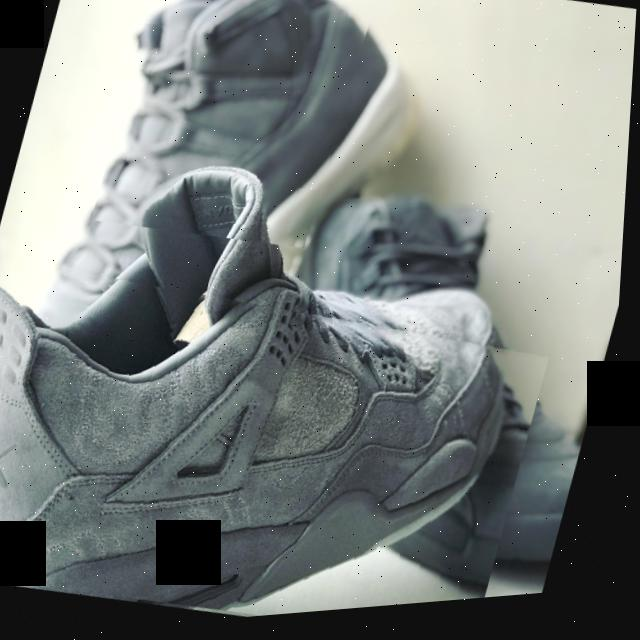shoe: (0, 225, 565, 640), (91, 0, 380, 268)
